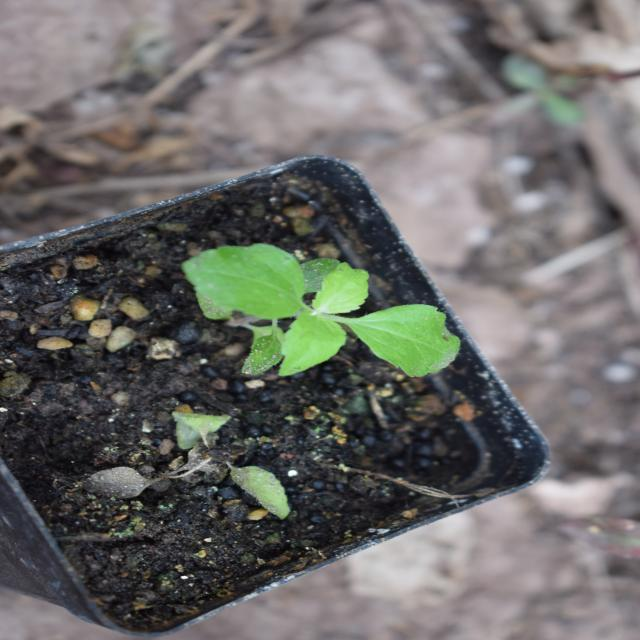billygoat_weed: (236, 158, 384, 466)
